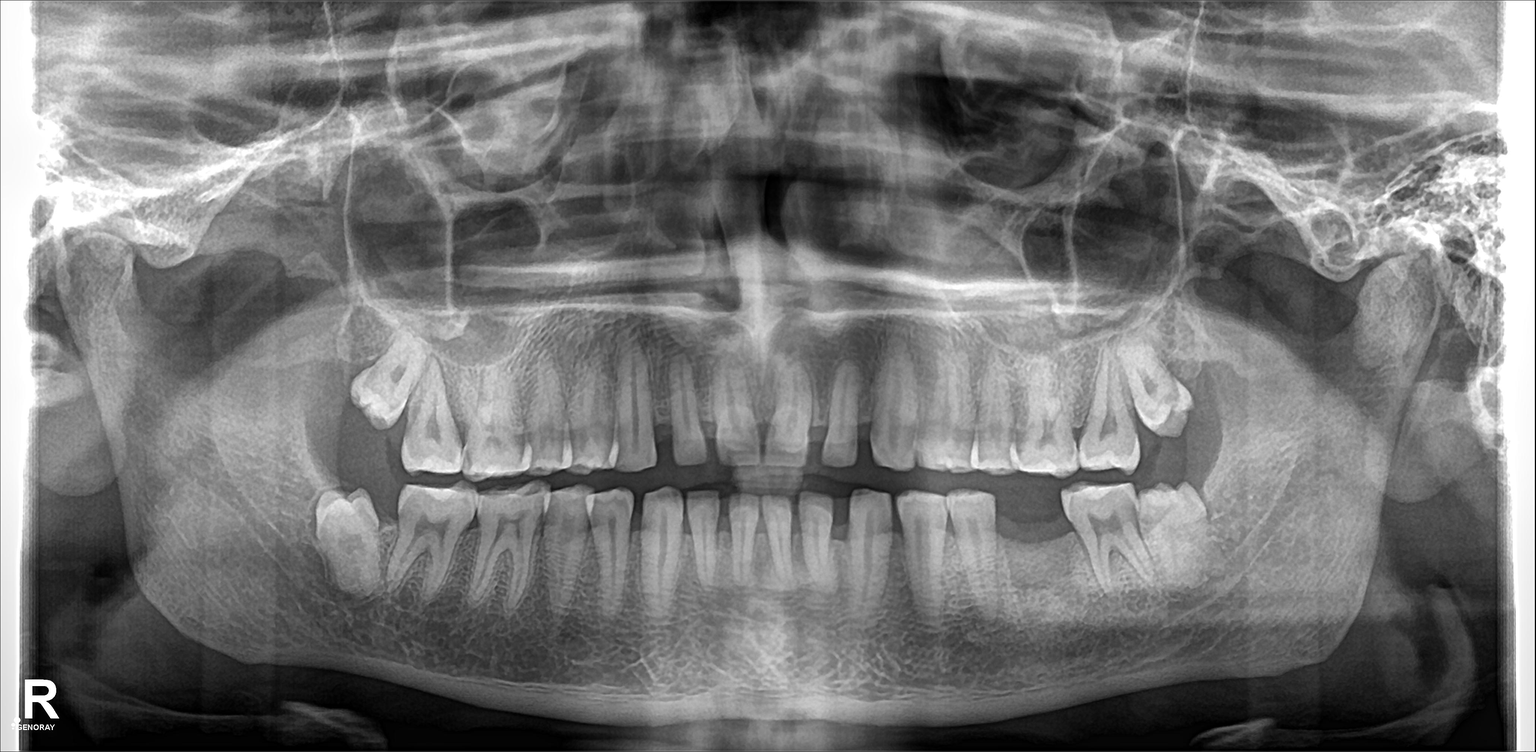Impacted Third Molar: (320, 497, 378, 599), (1149, 482, 1211, 573)
Missing Tooth: (1007, 495, 1068, 609)
